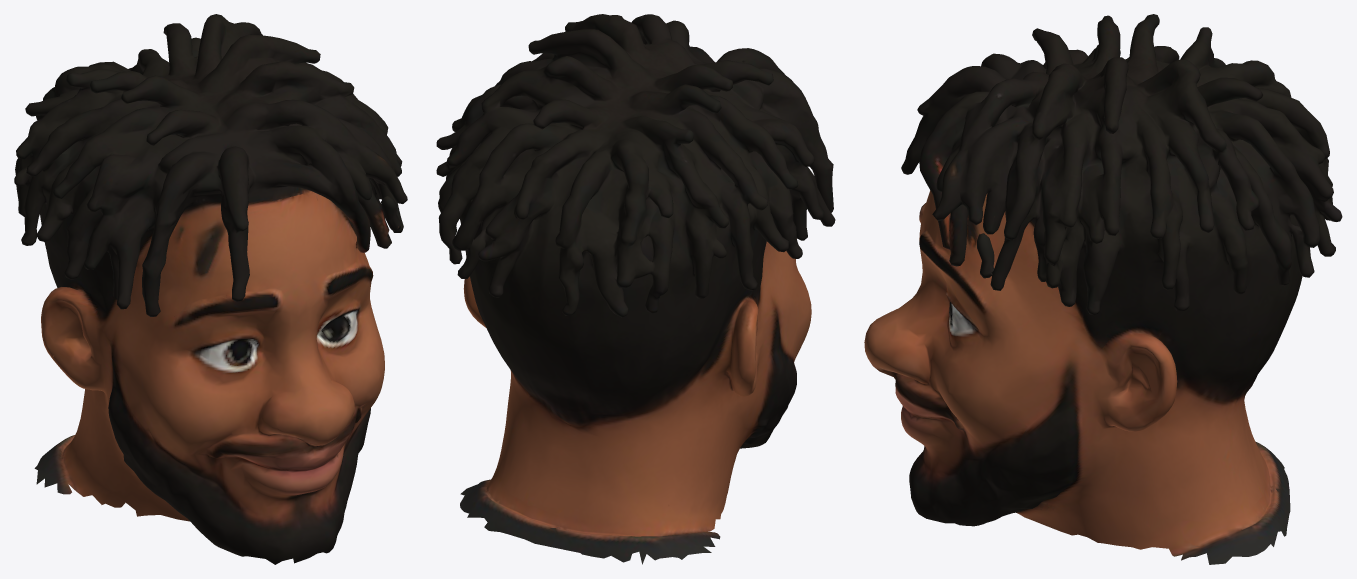
Rendered from saint-head-only.glb.
3 views of the same model, side by side, from view 1: azimuth 30°, elevation 25°; view 2: azimuth 150°, elevation 25°; view 3: azimuth 270°, elevation 25° (orthographic). The views are drawn at different scales.
Visible parts, largest first — view 1: SaintHead; view 2: SaintHead; view 3: SaintHead.
Part boxes in pixels (x1,y1,x2,y2): SaintHead: (14,14,407,564); SaintHead: (436,14,835,564); SaintHead: (864,14,1342,564).
Bounding box in the file's own units: 0.1591 × 0.2082 × 0.1943.
1 material, 1 textured.
